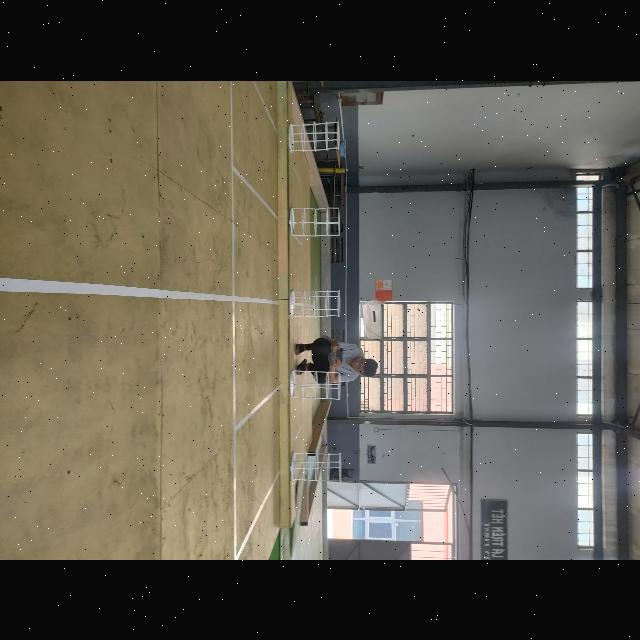S: (289, 451, 342, 484), (288, 370, 342, 400), (288, 121, 342, 151), (290, 204, 340, 236), (288, 290, 342, 316)
